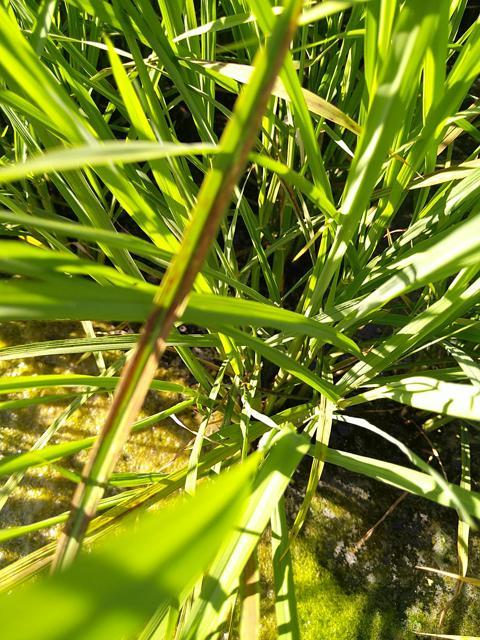Leaf Streak: (52, 0, 307, 579), (301, 88, 362, 136), (196, 59, 255, 85)
